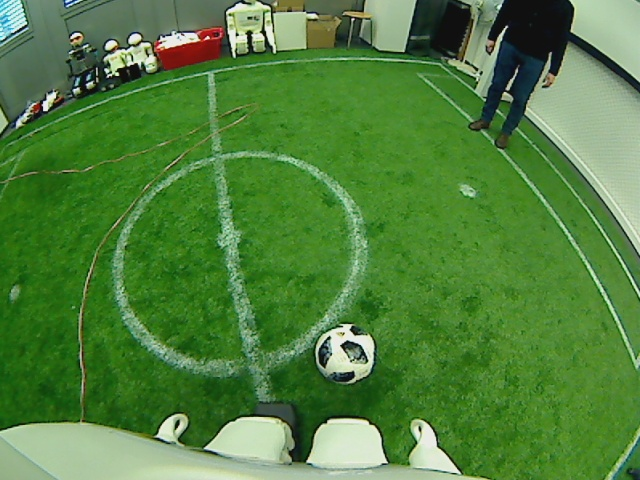ball: (312, 323, 376, 386)
